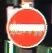No entry: (6, 6, 47, 48)
